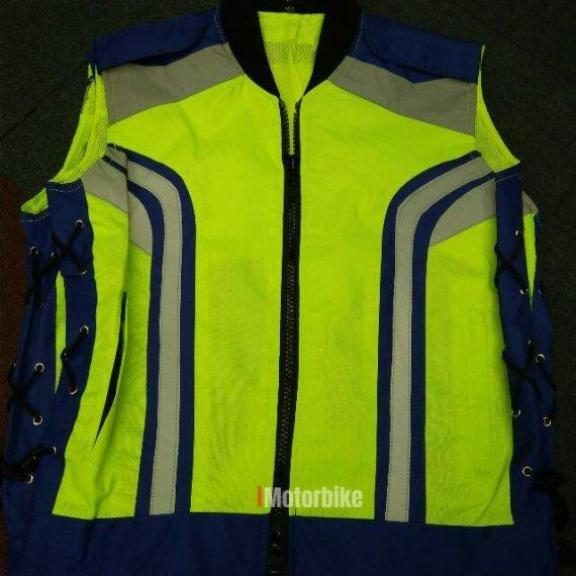safety_vest: (17, 0, 561, 574)
